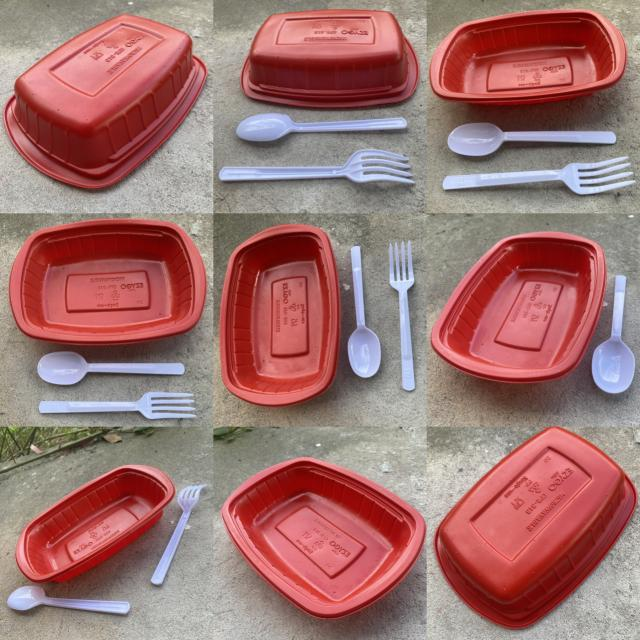Single-Use-Plastic: (435, 428, 638, 628), (4, 15, 206, 188), (221, 458, 425, 619), (431, 231, 606, 382), (9, 219, 206, 345), (220, 225, 340, 406), (430, 9, 628, 105), (16, 465, 175, 582), (241, 10, 419, 107), (442, 157, 635, 195), (219, 149, 414, 184), (448, 122, 616, 156), (151, 484, 206, 585), (591, 275, 635, 393), (38, 351, 185, 385), (236, 114, 406, 141), (348, 246, 381, 378), (39, 392, 196, 419), (389, 241, 415, 390), (8, 586, 130, 614)
